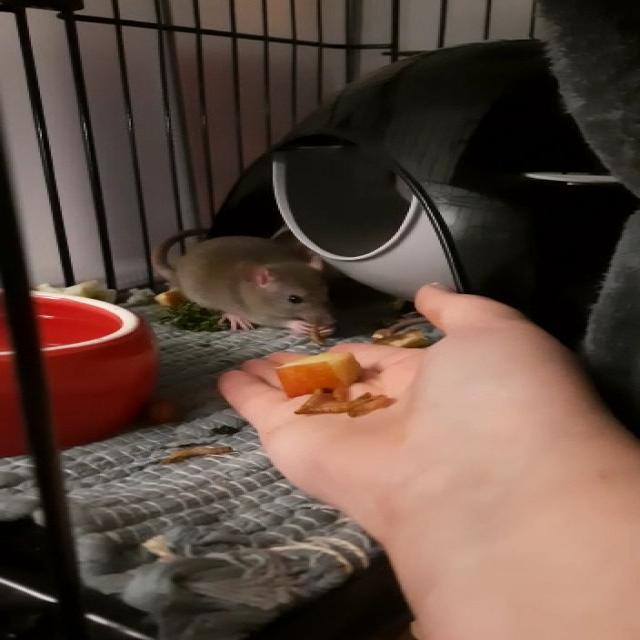rat: (167, 236, 341, 334)
